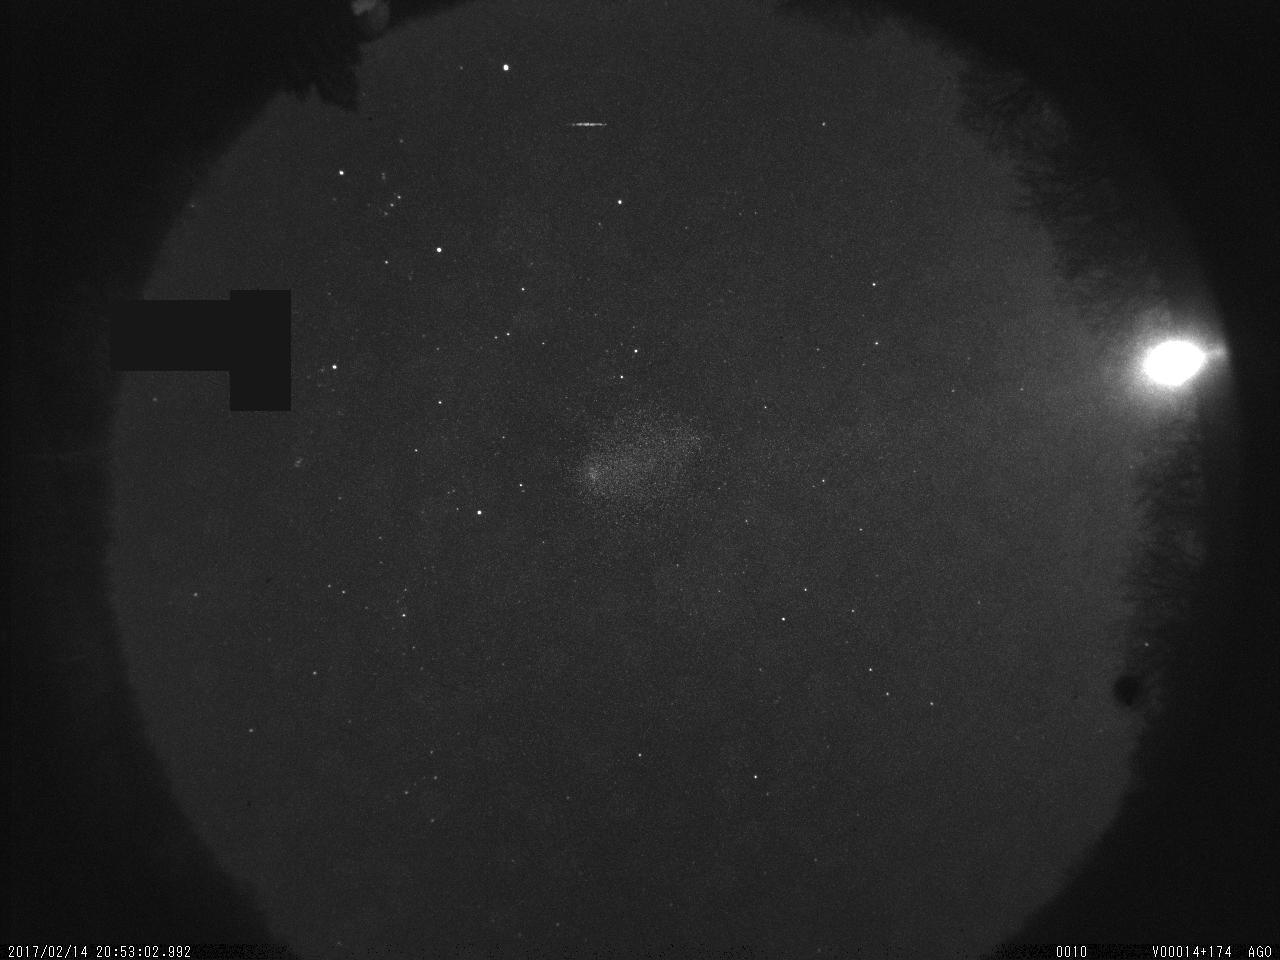meteor: (552, 111, 621, 143)
